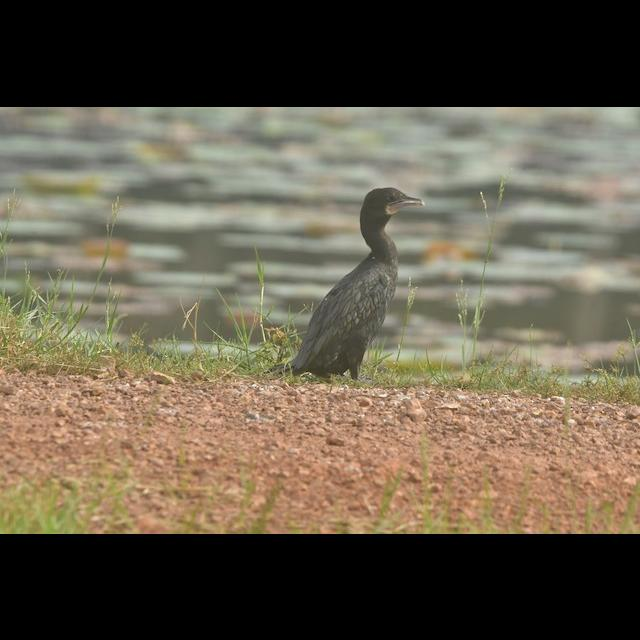cormorant: (279, 180, 427, 392)
